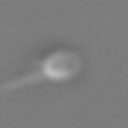normal: (1, 68, 43, 89)
